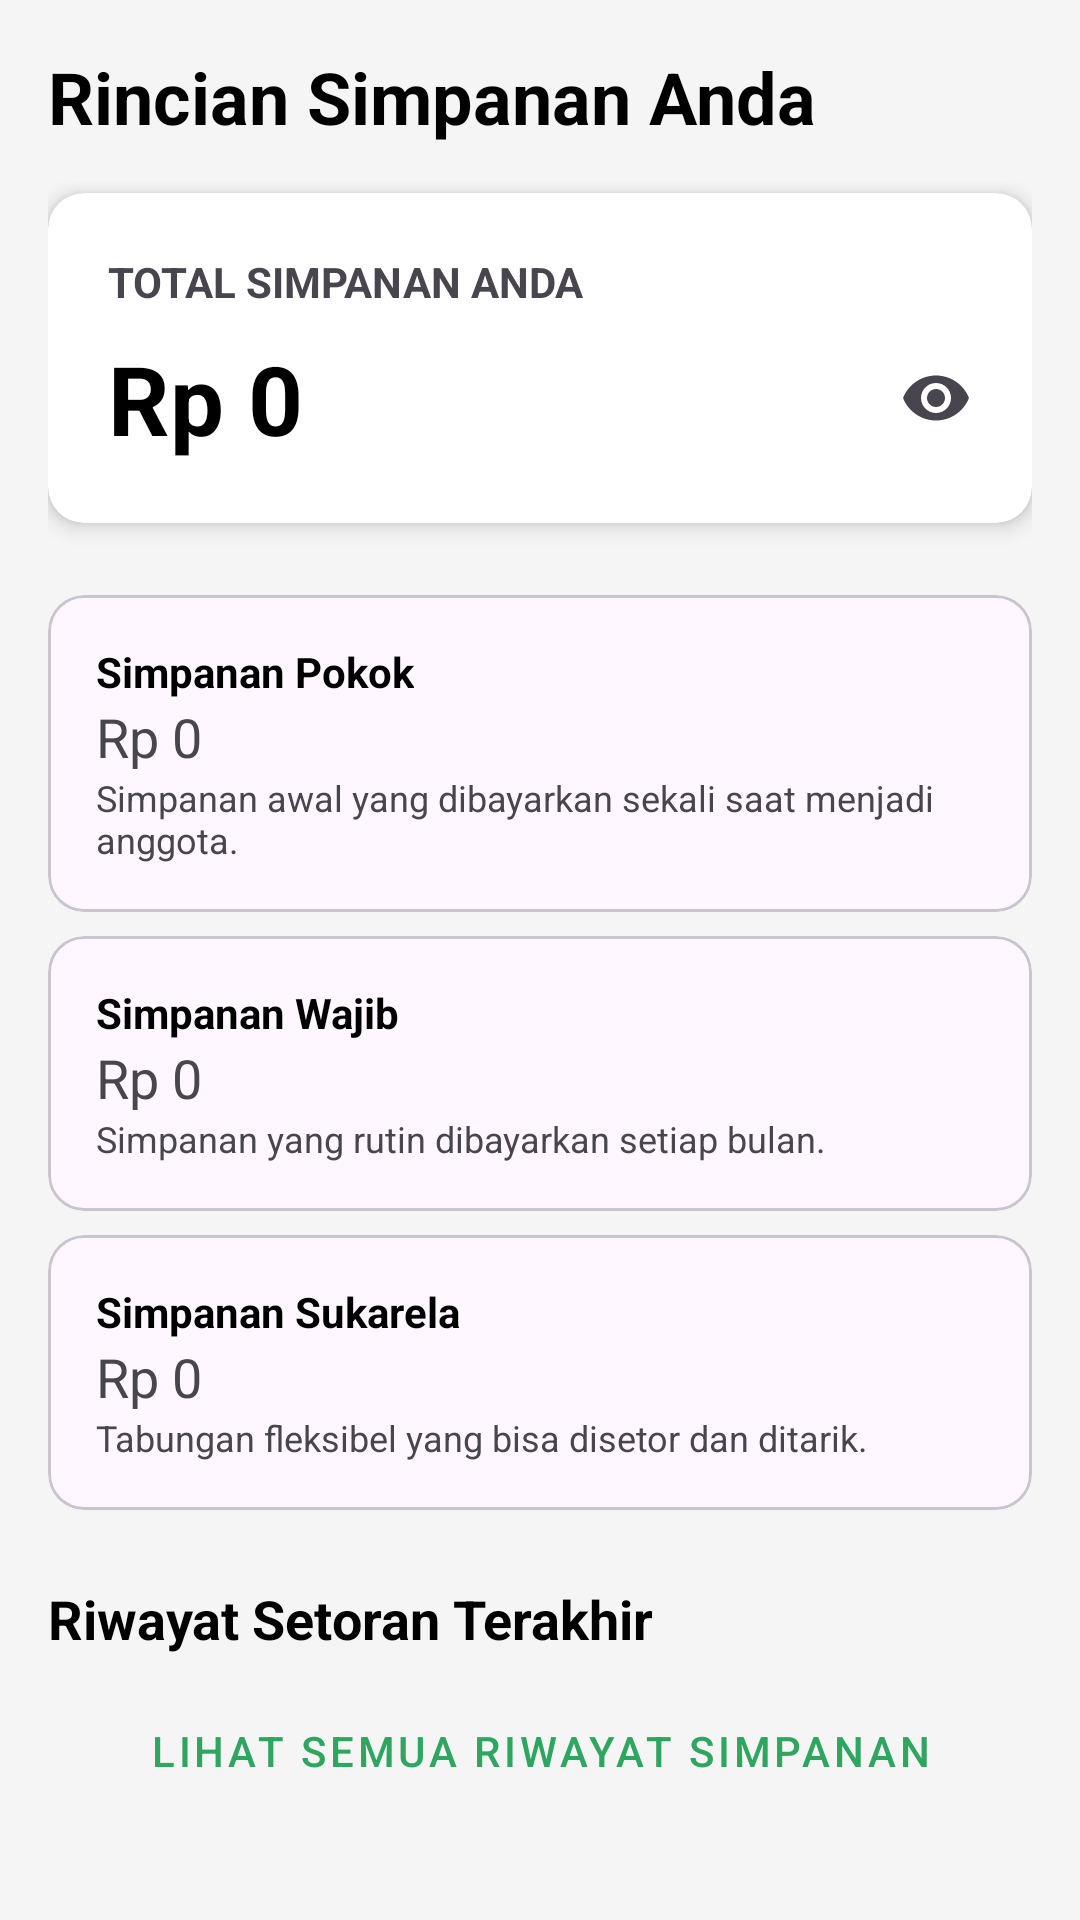

Icon bounding boxes for this 1080×1920 phone screenshot, format detection(x1, y1, x2, y2):
eye open: detection(903, 375, 969, 421)
